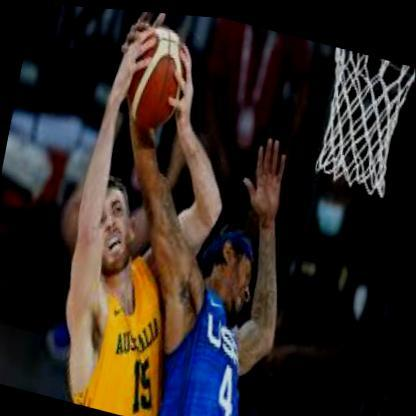basketball: (118, 15, 192, 131)
